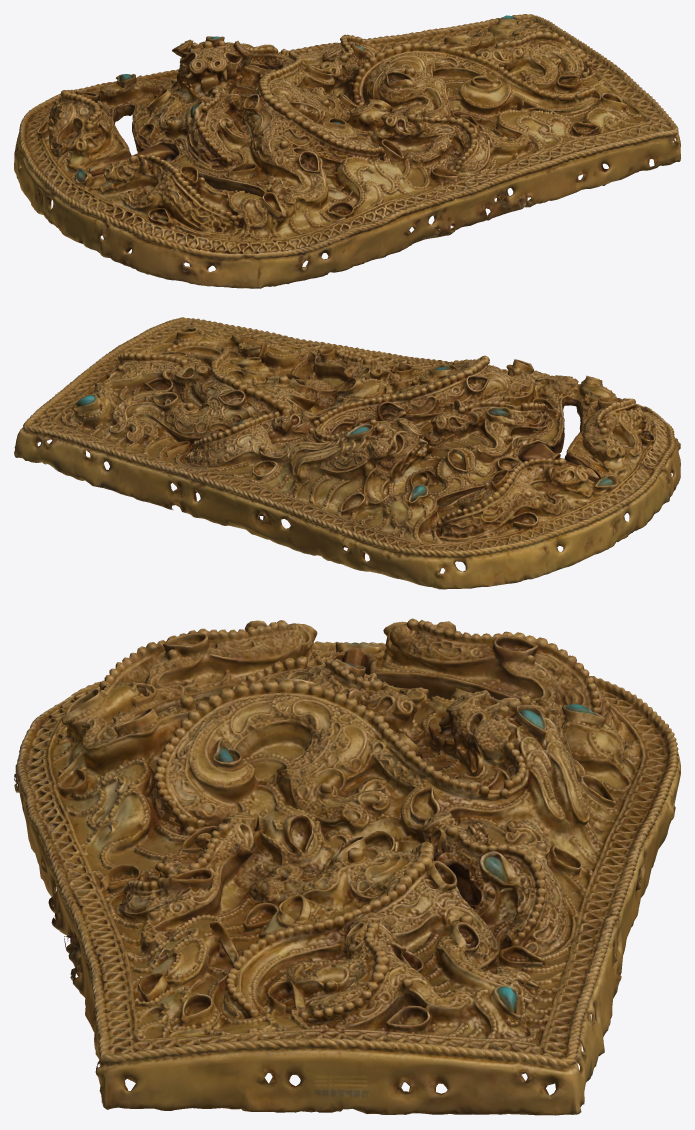
File: gold-buckle-seokamri.glb
The picture shows the model from 3 angles, top to bottom: view 1: azimuth 30°, elevation 25°; view 2: azimuth 150°, elevation 25°; view 3: azimuth 270°, elevation 25°; orthographic projection. The views are drawn at different scales.
Visible parts, largest first — view 1: bon004740-000-30000; view 2: bon004740-000-30000; view 3: bon004740-000-30000.
Boxes of the visible parts, x1,y1,x2,y2 form: bon004740-000-30000: (14, 14, 680, 288); bon004740-000-30000: (14, 317, 680, 589); bon004740-000-30000: (14, 618, 680, 1115).
Size of the model in its own units: 1.63 by 0.3177 by 1.11.
1 material, 1 textured.
